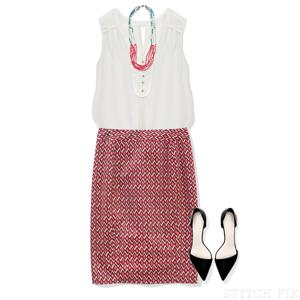C_dress: (85, 3, 208, 291)
F_heels: (190, 202, 238, 285)
